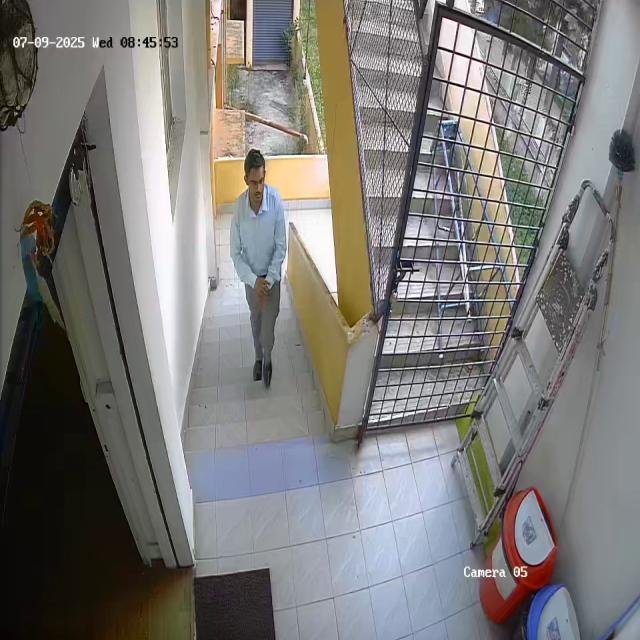person: (224, 147, 290, 391)
